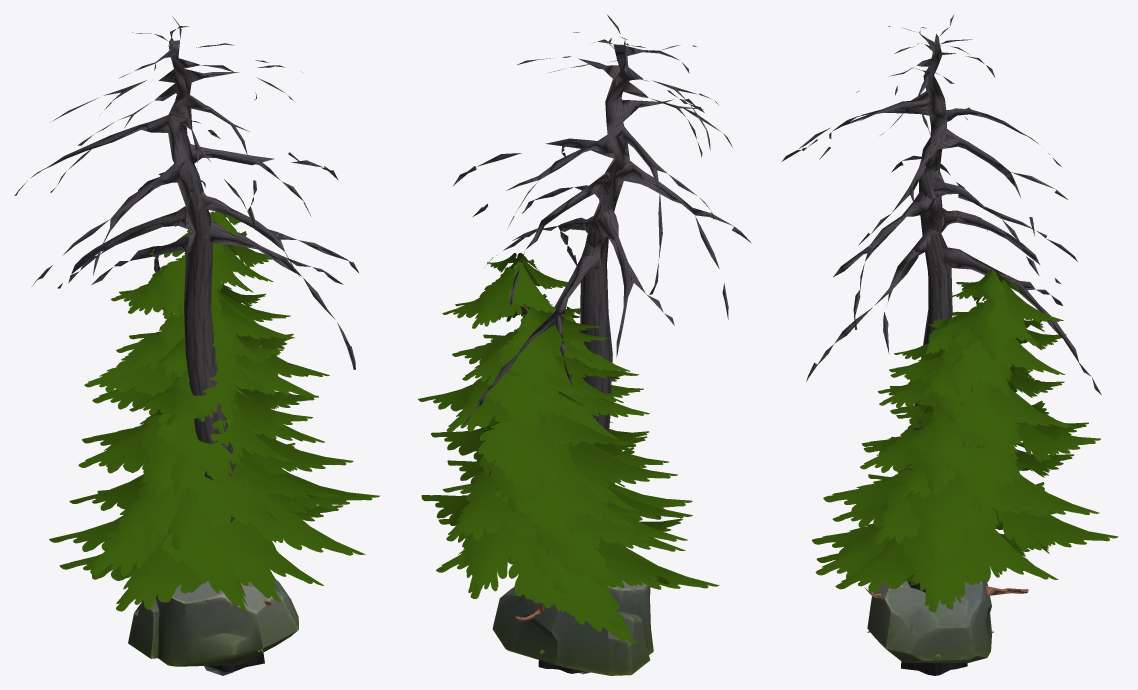
Rendered from forest.glb.
3 views of the same model, side by side, from view 1: azimuth 30°, elevation 25°; view 2: azimuth 150°, elevation 25°; view 3: azimuth 270°, elevation 25° (orthographic). The views are drawn at different scales.
Visible parts, largest first — view 1: Pine_5, Pine_2, DeadTree_3, Rock_Medium_2; view 2: Pine_5, DeadTree_3, Pine_2, Rock_Medium_2; view 3: Pine_5, DeadTree_3, Pine_2, Rock_Medium_2.
Boxes of the visible parts, left/top/right/bottom form: Pine_5: left=49, top=211, right=379, bottom=602; Pine_2: left=59, top=293, right=343, bottom=611; DeadTree_3: left=14, top=16, right=358, bottom=672; Rock_Medium_2: left=128, top=578, right=298, bottom=666; Pine_5: left=418, top=253, right=701, bottom=630; DeadTree_3: left=453, top=14, right=751, bottom=673; Pine_2: left=436, top=306, right=719, bottom=644; Rock_Medium_2: left=492, top=580, right=653, bottom=675; Pine_5: left=816, top=269, right=1118, bottom=612; DeadTree_3: left=781, top=14, right=1101, bottom=675; Pine_2: left=812, top=317, right=1058, bottom=609; Rock_Medium_2: left=867, top=580, right=991, bottom=662.
Size of the model in its own units: 7.26 by 13.53 by 6.81.
Materials: 12 (12 with a texture image).
